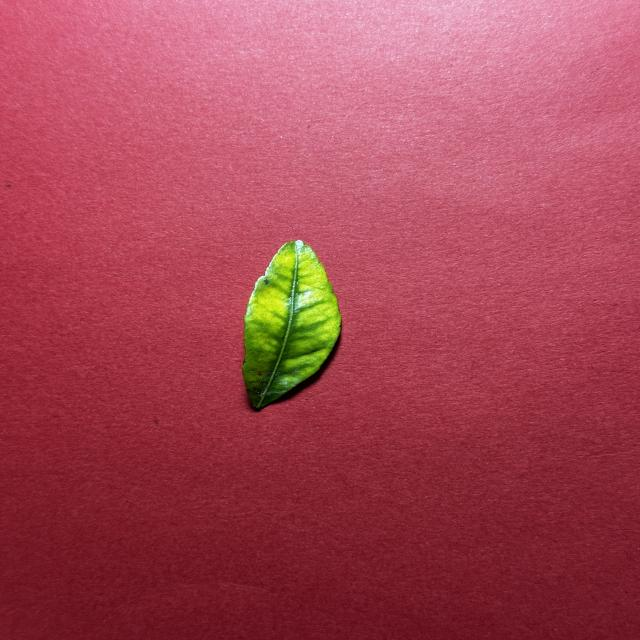greening: (242, 240, 341, 409)
